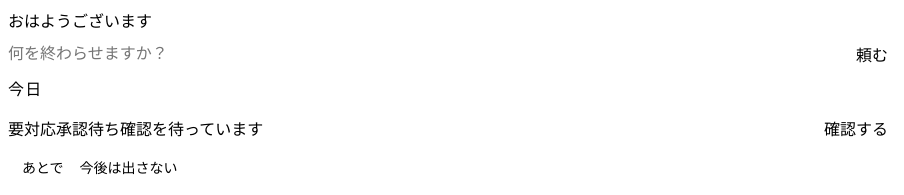
Test: Library (§10) › offers both "later" and a lasting refusal (§16)
Click the button "今後は出さない". click: (129, 167)
box: [74,156,184,178]
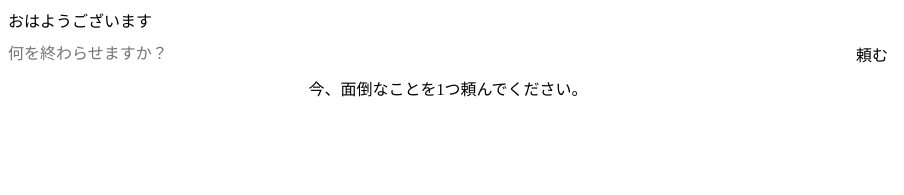
Now the button "承認待ち" is gone
